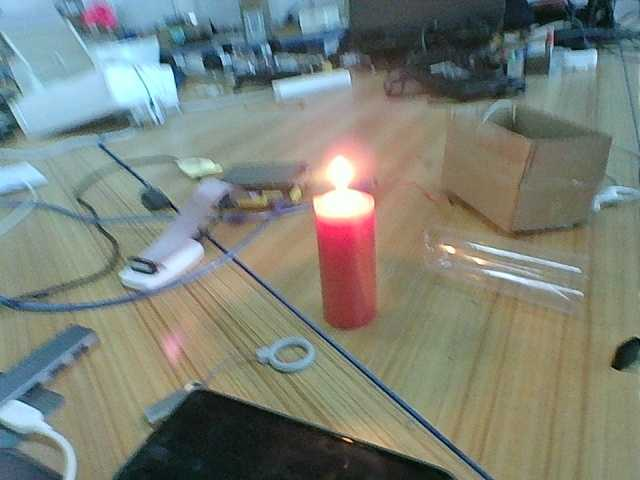candle: (309, 210, 390, 334)
fire: (315, 154, 372, 215)
